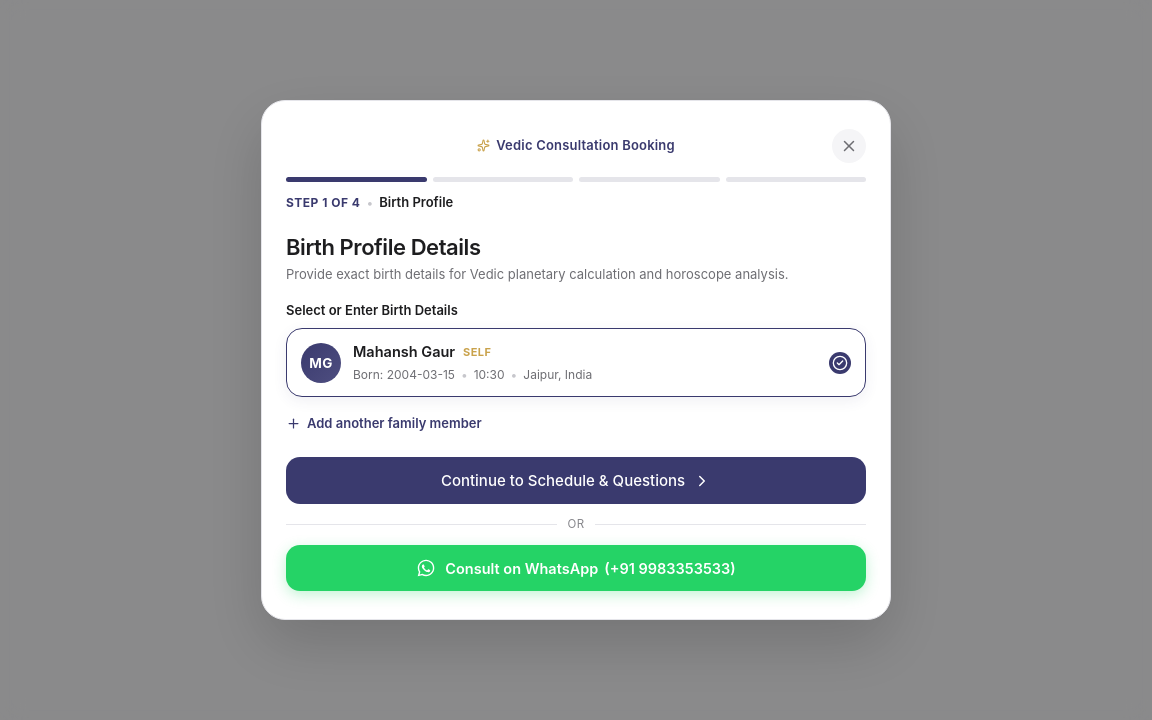
it: BookingModal Component Tests › navigates through steps using Continue and returns via top-left Back button
This screenshot has width=1152, height=720.
Expected: the text "Step 1 of 4" is shown, [286,194,360,212]
Expected: the text "Birth Profile" is shown, [379,193,453,212]
Note: Click Continue to Schedule & Questions
Click the button "Continue to Schedule & Questions" at point(576, 480), box [286,457,866,504]
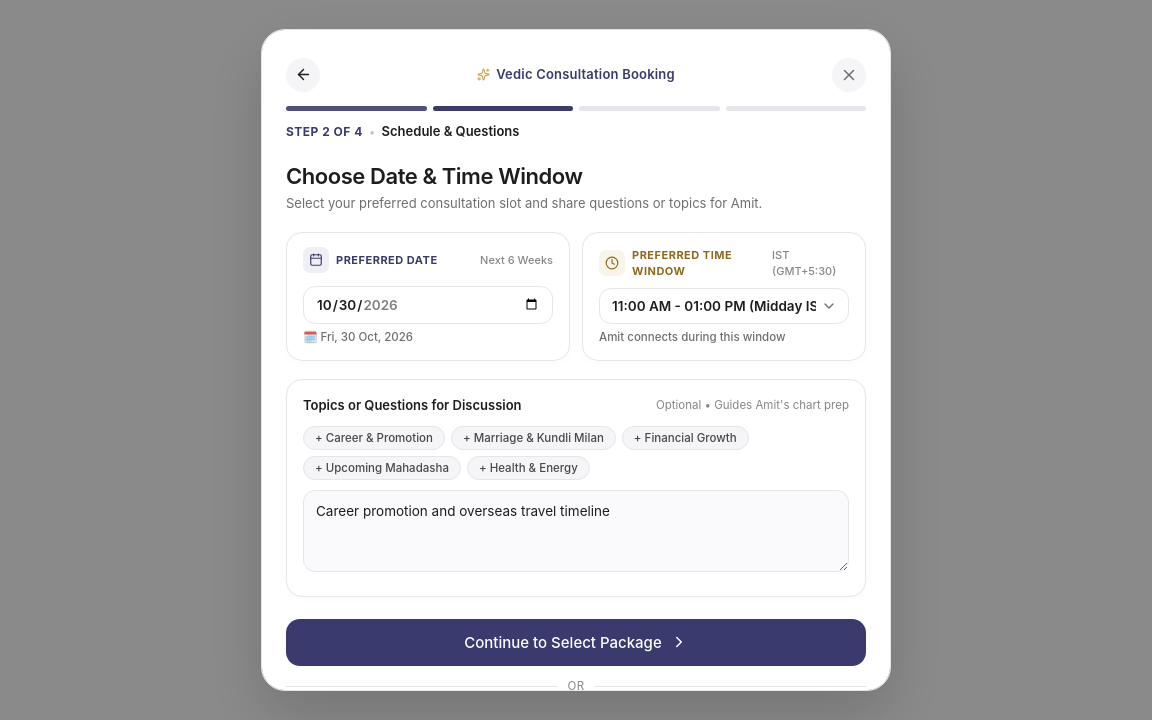
Expected: the text "Step 2 of 4" is shown, [286,123,363,141]
Expected: the text "Schedule & Questions" is shown, [382,122,519,142]
Expected: the button named "Go to previous step" is shown
Note: Click Back button to return to Step 1
Click the button named "Go to previous step" at point(303, 75), box [286,58,320,92]
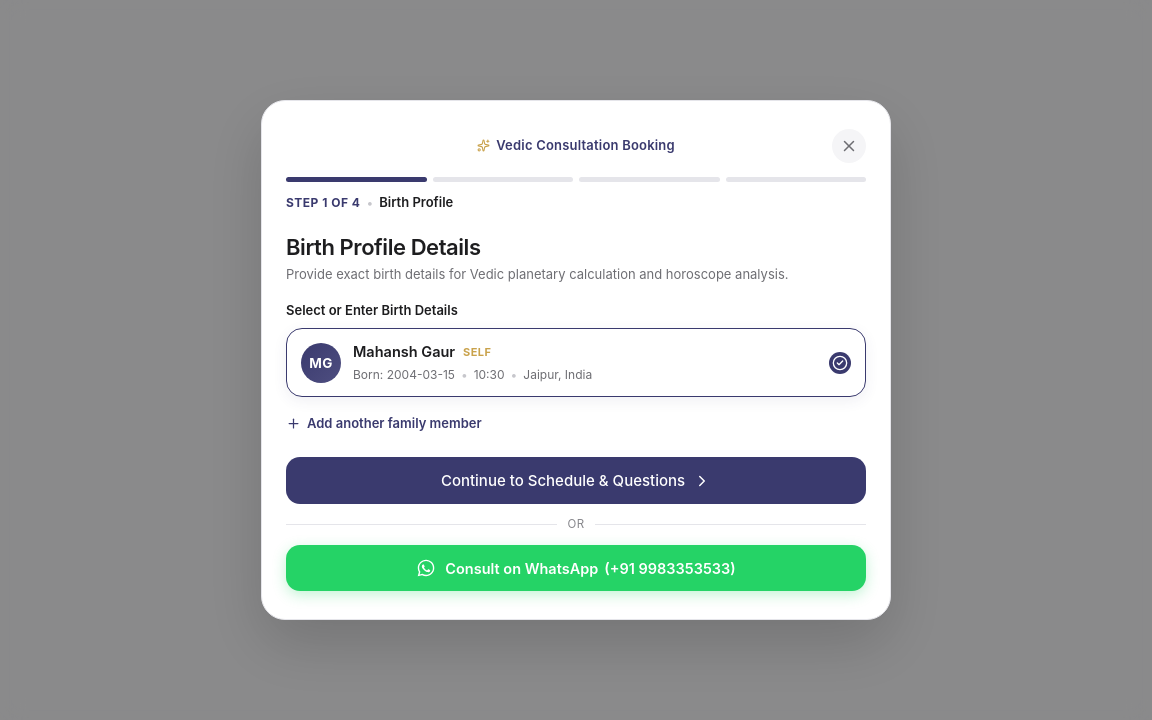
Expected: the text "Step 1 of 4" is shown, [286,194,360,212]
Expected: the text "Birth Profile" is shown, [379,193,453,212]
